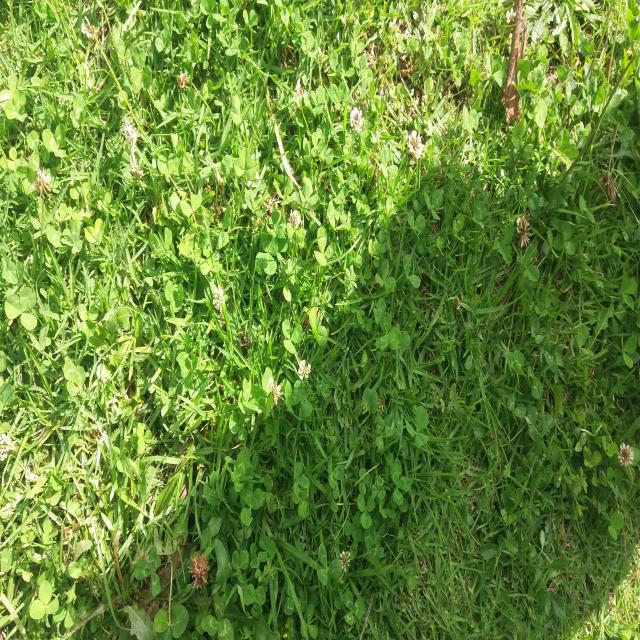Four Leaf Clover: (254, 231, 278, 276)
